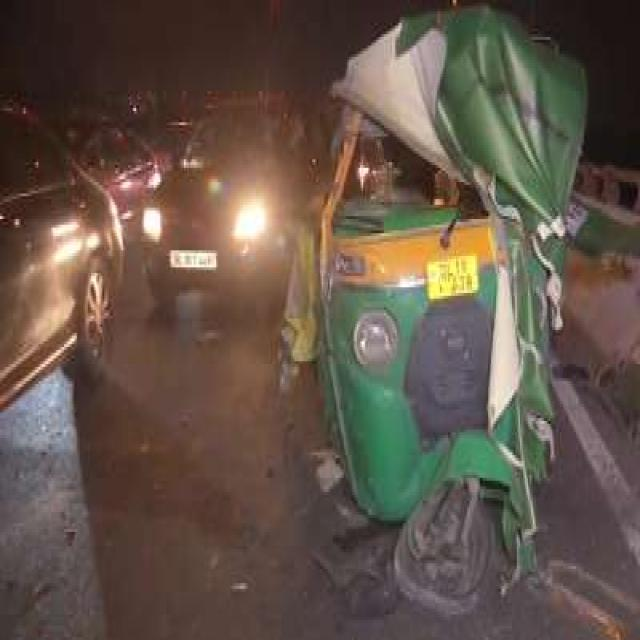accident: (320, 7, 588, 614)
car: (0, 104, 124, 408), (140, 118, 310, 321), (66, 113, 166, 222)
